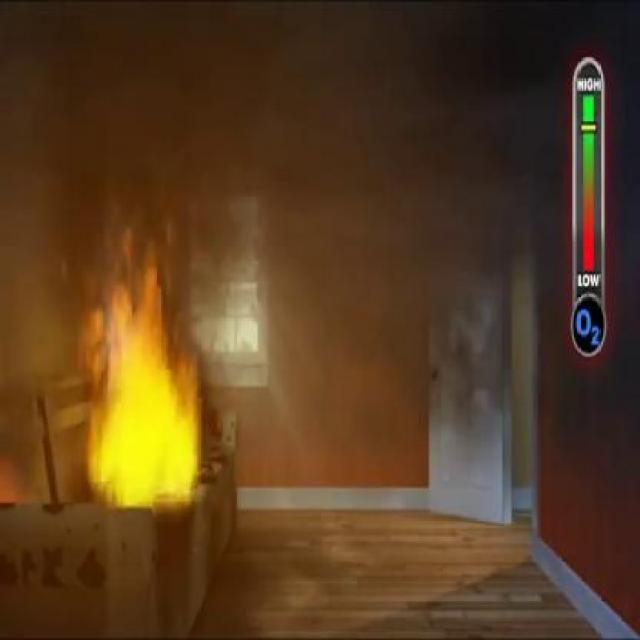fire: (78, 300, 207, 512)
smoke: (26, 23, 522, 197)
